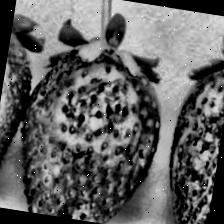Anthracnose Fruit Rot: (11, 49, 165, 224), (158, 59, 224, 224)
